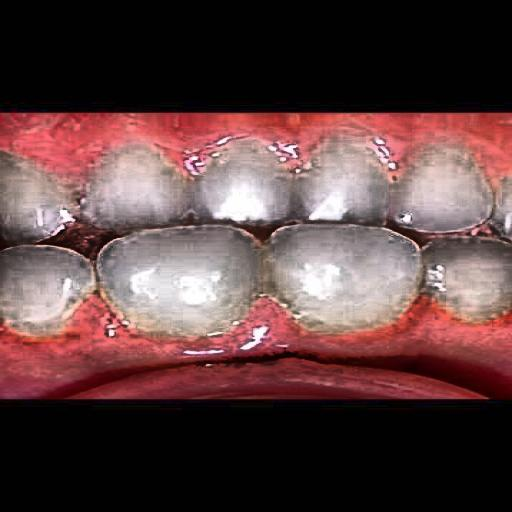Healthy: (35, 145, 512, 331)
